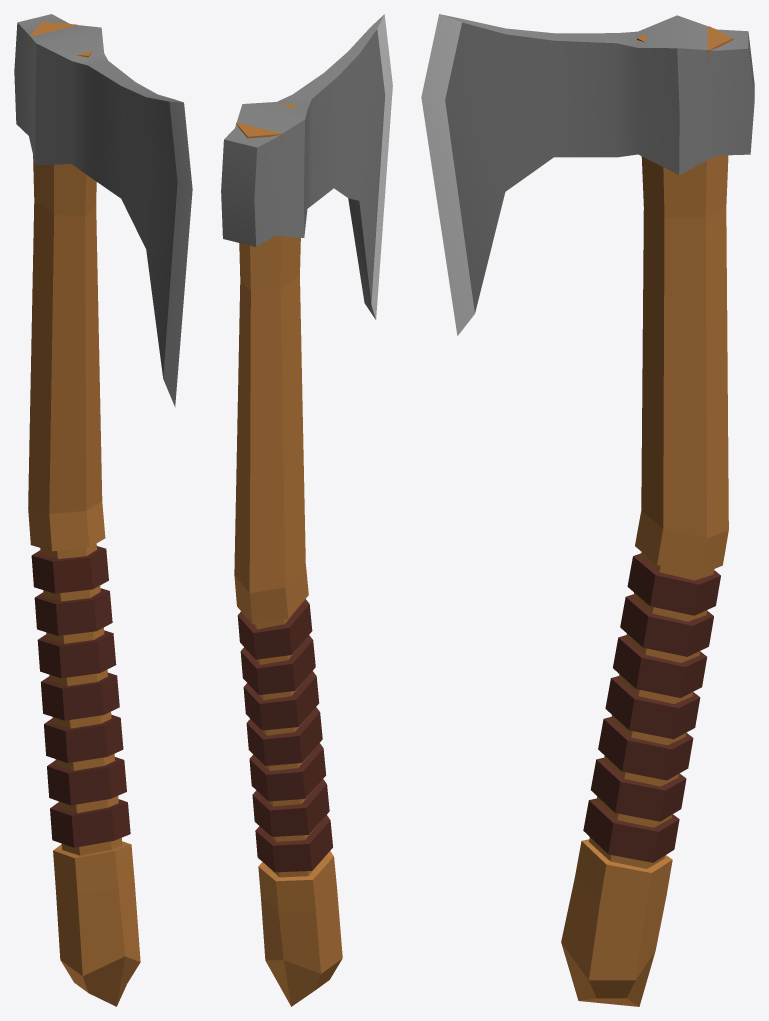
File: Axe1.glb
3 views of the same model, side by side, from view 1: azimuth 30°, elevation 25°; view 2: azimuth 150°, elevation 25°; view 3: azimuth 270°, elevation 25° (orthographic). The views are drawn at different scales.
Parts seen in each view (by area): view 1: weapon_generator; view 2: weapon_generator; view 3: weapon_generator.
Boxes of the visible parts, x1=… form: weapon_generator: x1=14, y1=14, x2=192, y2=1006; weapon_generator: x1=221, y1=14, x2=392, y2=1006; weapon_generator: x1=421, y1=14, x2=754, y2=1006.
Bounding box in the file's own units: 0.0296 × 0.417 × 0.1269.
